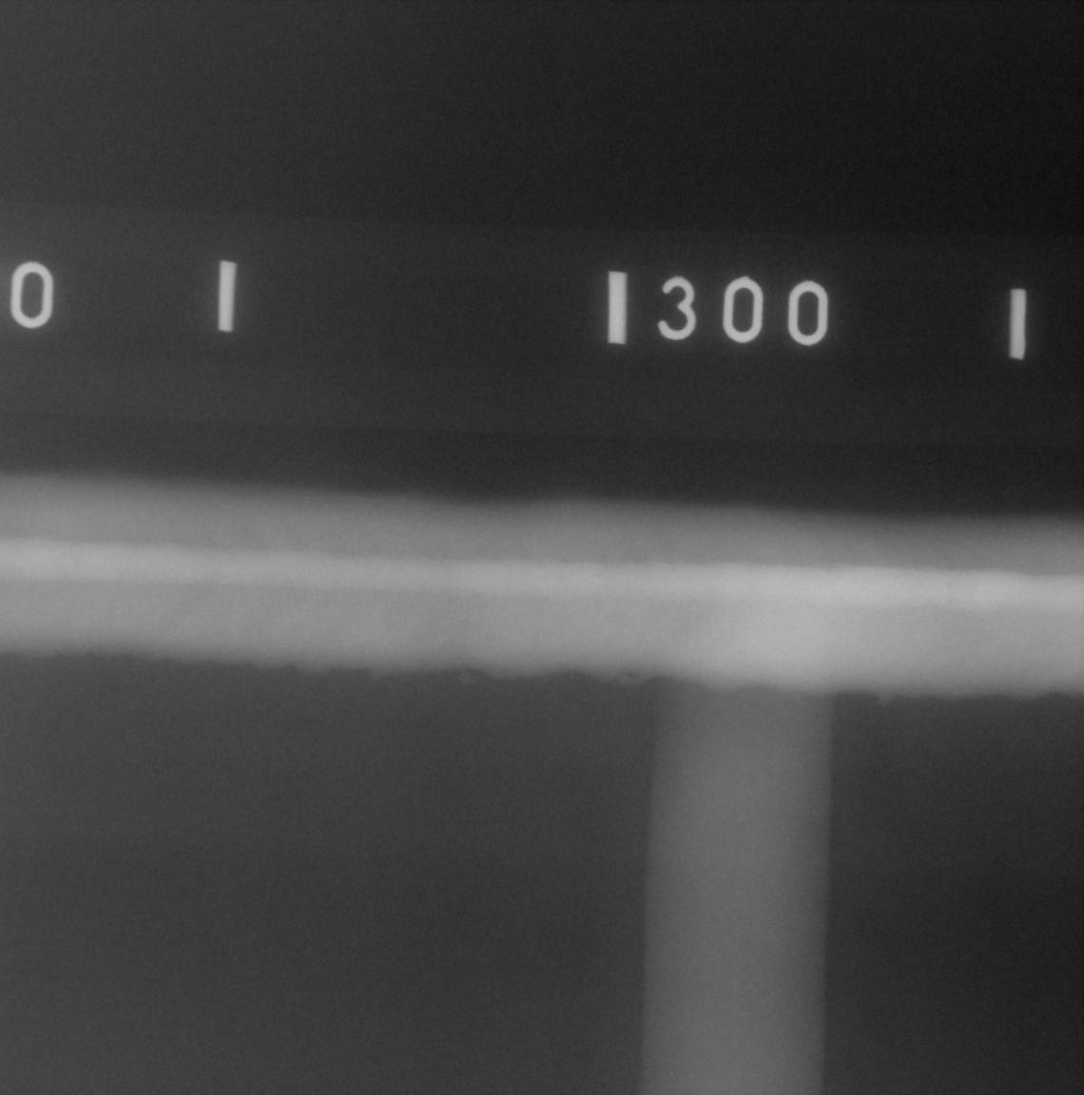Inclusion: (626, 671, 640, 680)
